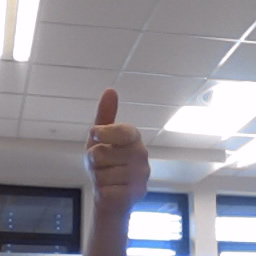G: (81, 86, 153, 200)
